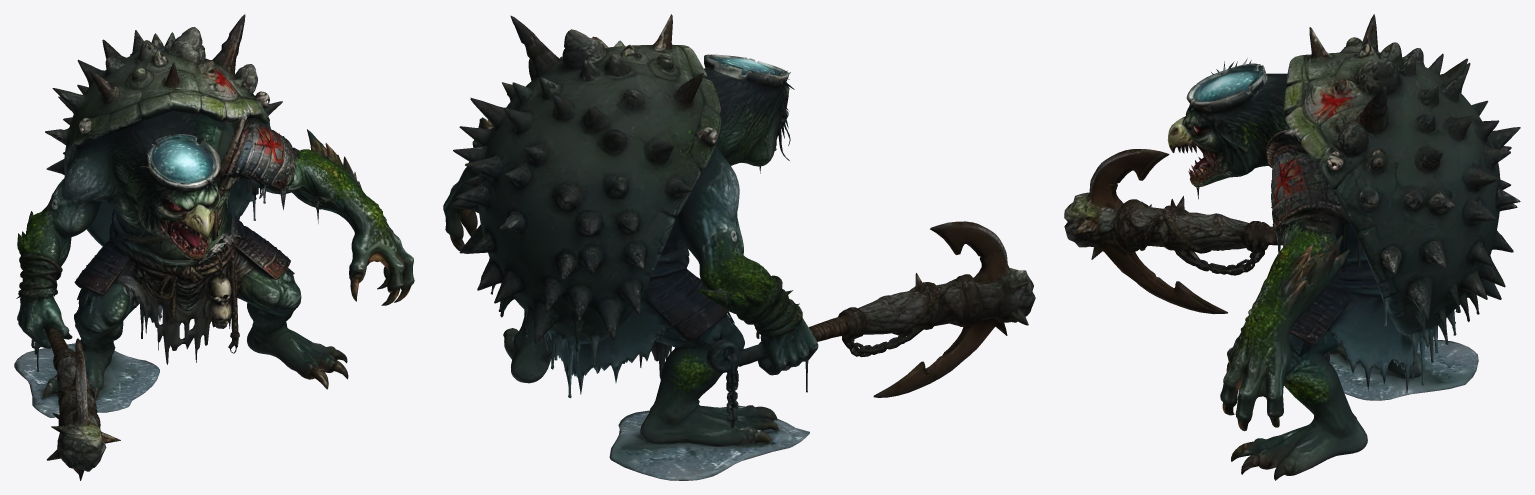
The model's file is chochin_boss_1024.glb.
3 views of the same model, side by side, from view 1: azimuth 30°, elevation 25°; view 2: azimuth 150°, elevation 25°; view 3: azimuth 270°, elevation 25° (orthographic). The views are drawn at different scales.
Parts seen in each view (by area): view 1: node_0; view 2: node_0; view 3: node_0.
Boxes of the visible parts, x1,y1,x2,y2 form: node_0: (14,14,414,480); node_0: (443,14,1035,480); node_0: (1064,14,1520,480).
Bounding box in the file's own units: 0.9066 × 0.6696 × 0.7478.
1 material, 1 textured.
